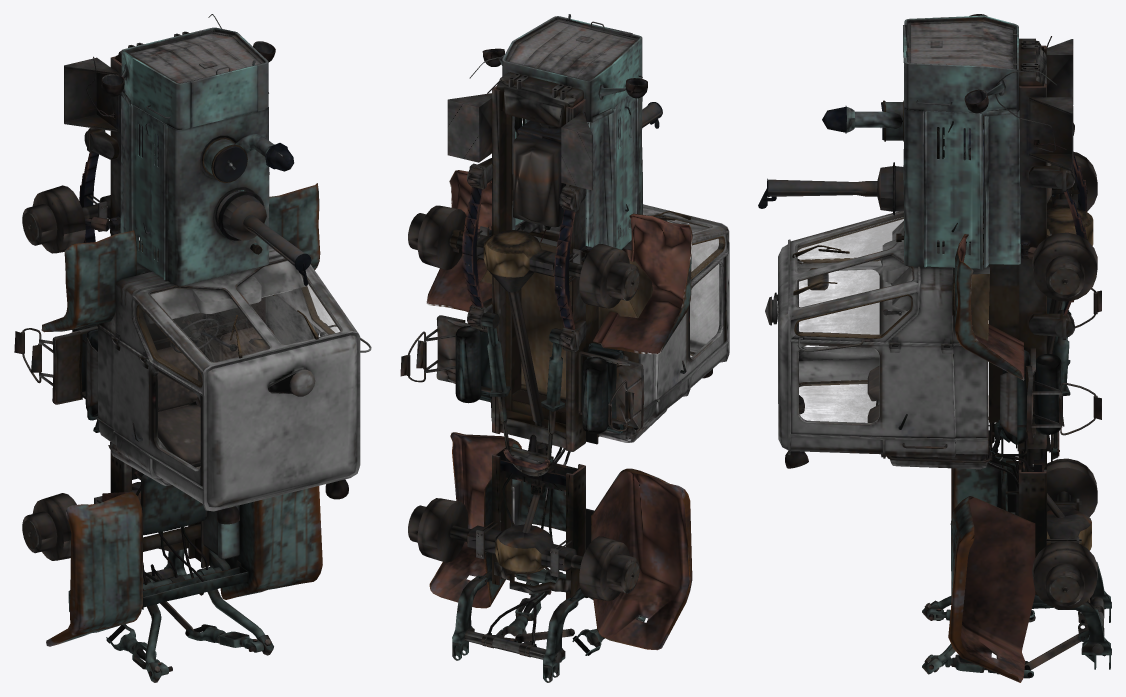
Rendered from htz150.obj.
The picture shows the model from 3 angles, left to right: view 1: azimuth 30°, elevation 25°; view 2: azimuth 150°, elevation 25°; view 3: azimuth 270°, elevation 25°; orthographic projection. The views are drawn at different scales.
Parts seen in each view (by area): view 1: htz150_1664277.001; view 2: htz150_1664277.001; view 3: htz150_1664277.001.
Part boxes in pixels (left/top/right/bottom): htz150_1664277.001: left=14, top=14, right=371, bottom=682; htz150_1664277.001: left=400, top=14, right=729, bottom=682; htz150_1664277.001: left=758, top=14, right=1111, bottom=682.
Bounding box in the file's own units: 2.44 × 5.71 × 2.95.
8 materials, 8 textured.
